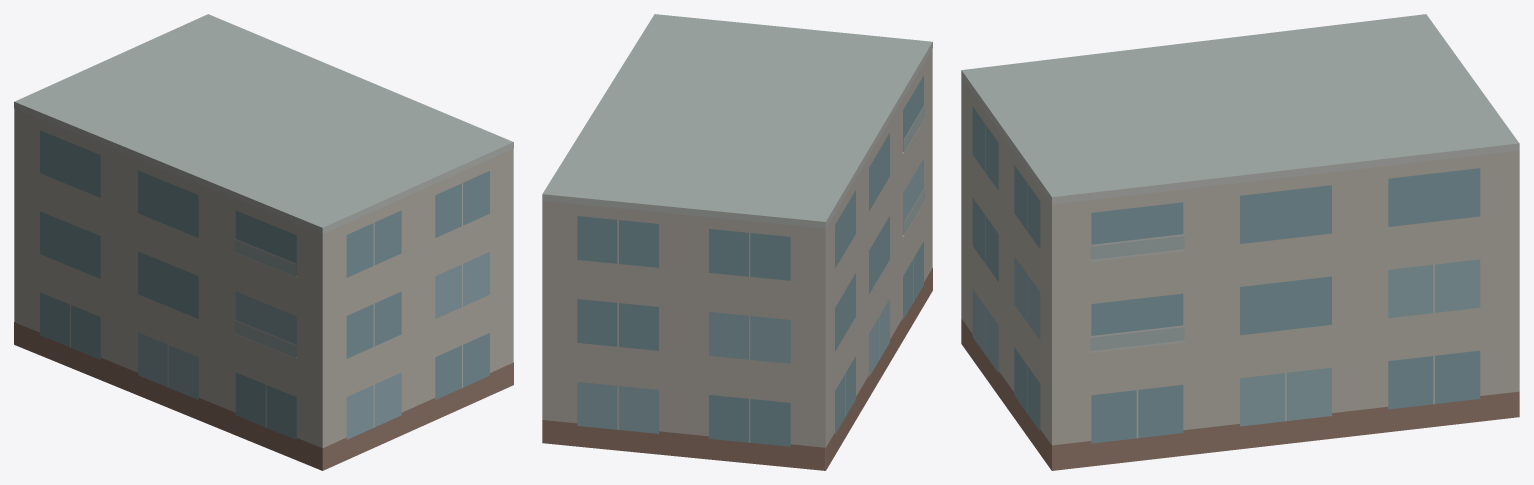
The model's file is survey-upis-32944505.glb.
The picture shows the model from 3 angles, left to right: view 1: azimuth 30°, elevation 25°; view 2: azimuth 150°, elevation 25°; view 3: azimuth 270°, elevation 25°; orthographic projection. The views are drawn at different scales.
Visible parts, largest first — view 1: survey-upis-32944505.tmp; view 2: survey-upis-32944505.tmp; view 3: survey-upis-32944505.tmp.
Boxes of the visible parts, box(x1,y1,x2,y2) form: survey-upis-32944505.tmp: box(14, 14, 513, 470); survey-upis-32944505.tmp: box(542, 14, 932, 470); survey-upis-32944505.tmp: box(961, 14, 1519, 470).
Size of the model in its own units: 13.14 by 9.15 by 16.92.
